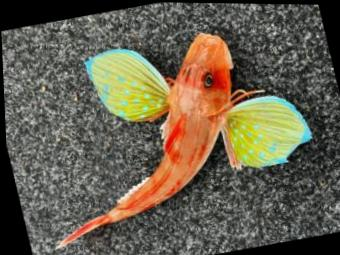fish: (54, 29, 312, 246)
